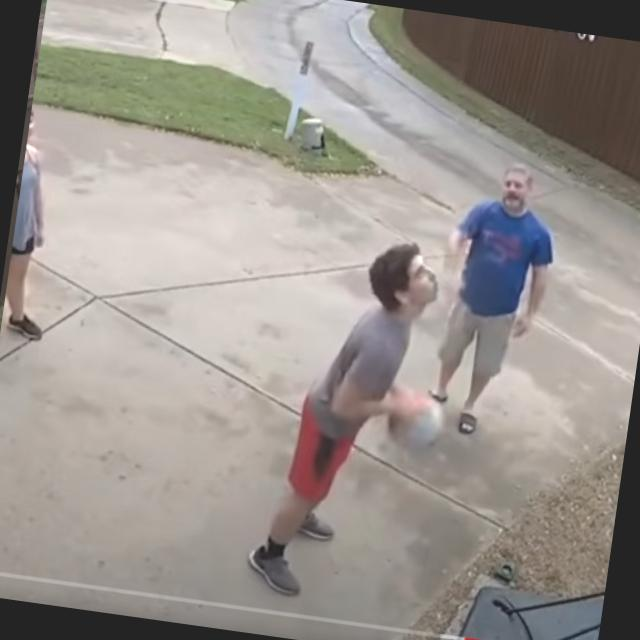person: (243, 227, 454, 611), (420, 158, 566, 444), (0, 120, 71, 341)
